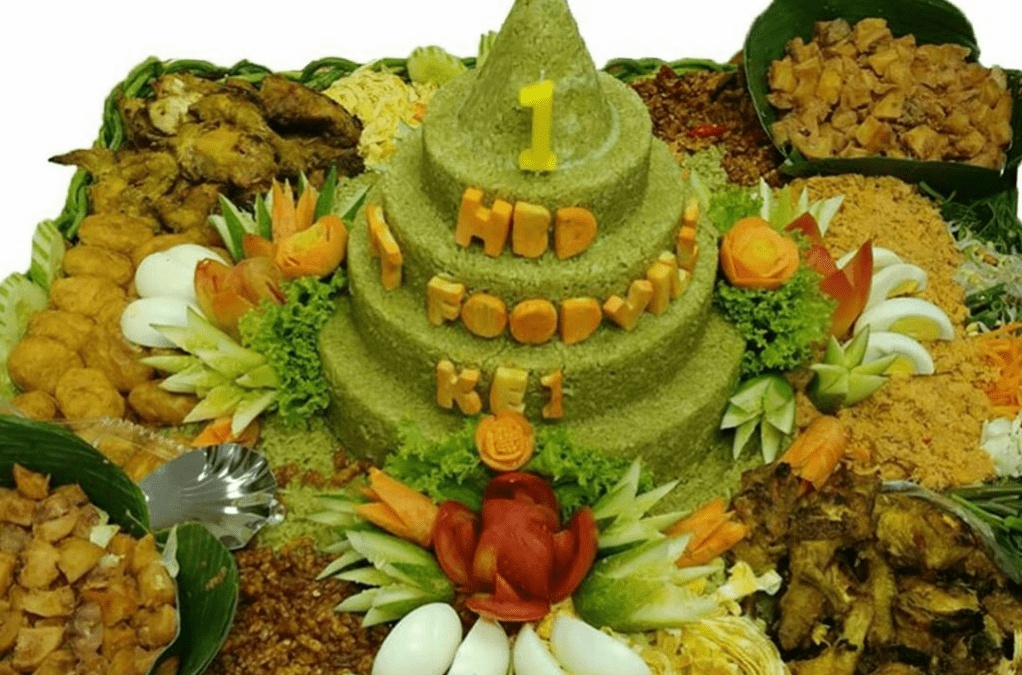tumpeng: (443, 8, 639, 156)
